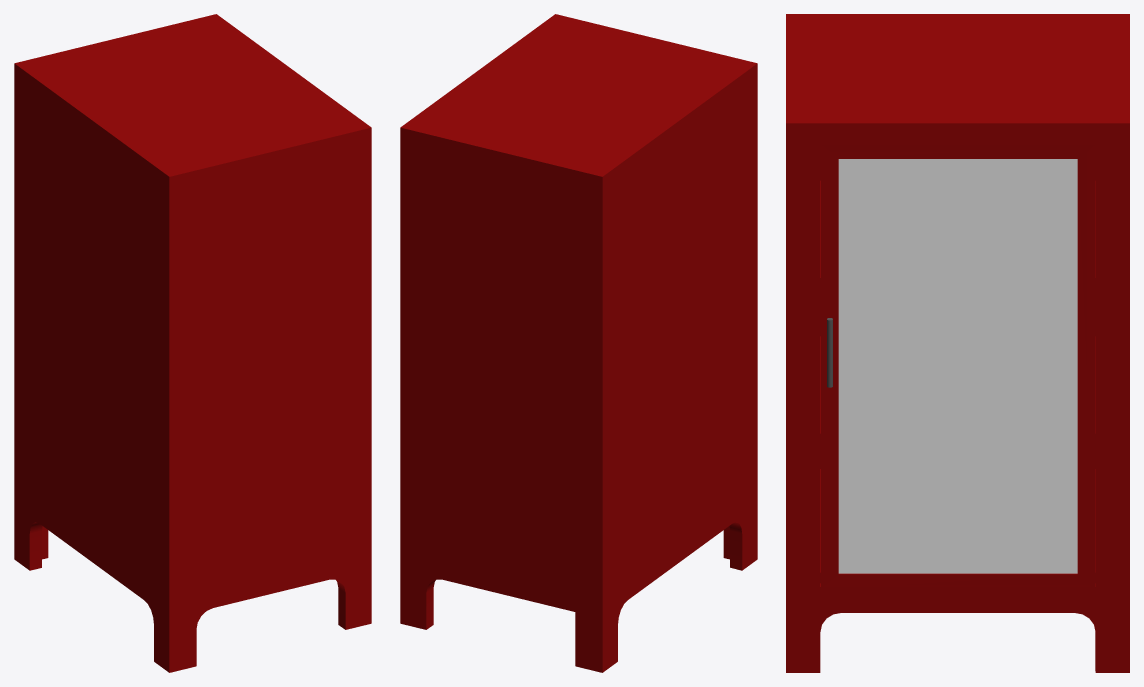
Rendered from Kotak_Helm.fbx.
3 renders of one model, left to right at view 1: azimuth 30°, elevation 25°; view 2: azimuth 150°, elevation 25°; view 3: azimuth 270°, elevation 25°, orthographic. The views are drawn at different scales.
Visible parts, largest first — view 1: pPlane6; view 2: pPlane6; view 3: pPlane6.
Boxes of the visible parts, <box> form: pPlane6: <box>14,14,371,672</box>; pPlane6: <box>400,14,757,672</box>; pPlane6: <box>786,14,1129,672</box>.
Size of the model in its own units: 3.84 by 8.3 by 4.71.
